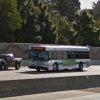Bus: (27, 41, 94, 72)
